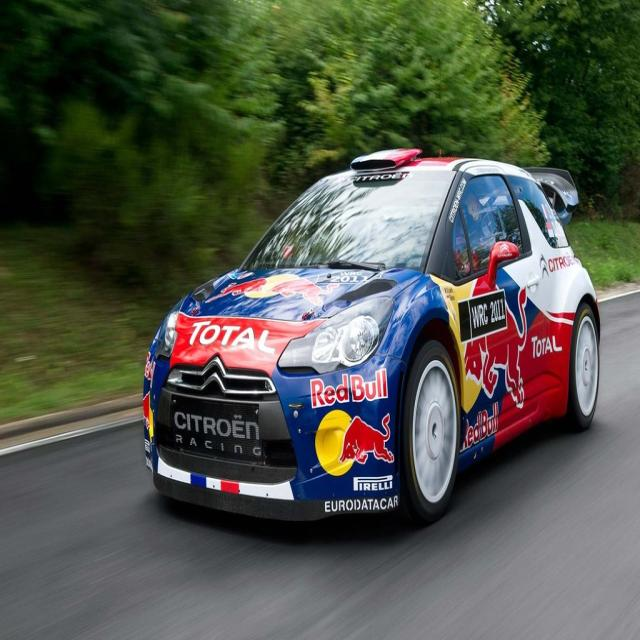car: (143, 141, 600, 521)
